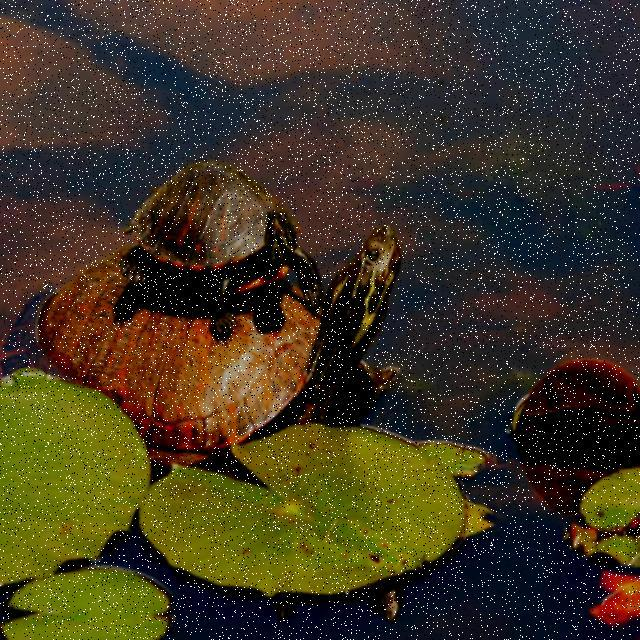tortoise: (108, 139, 306, 299)
